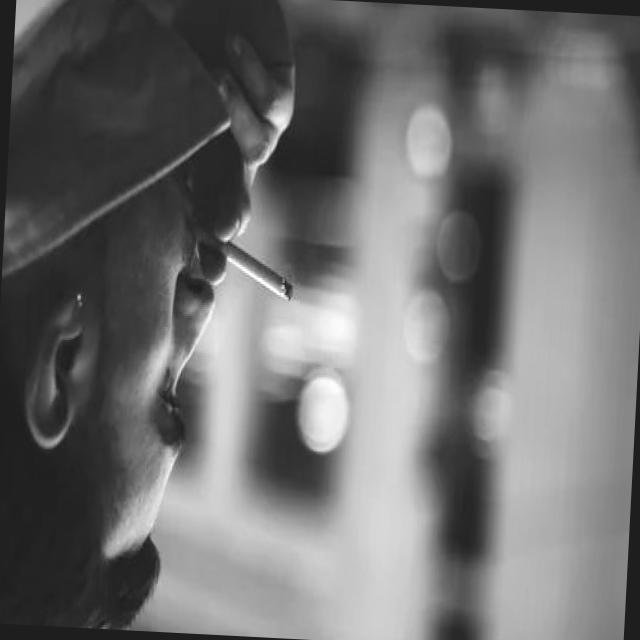smoke: (214, 235, 300, 308)
